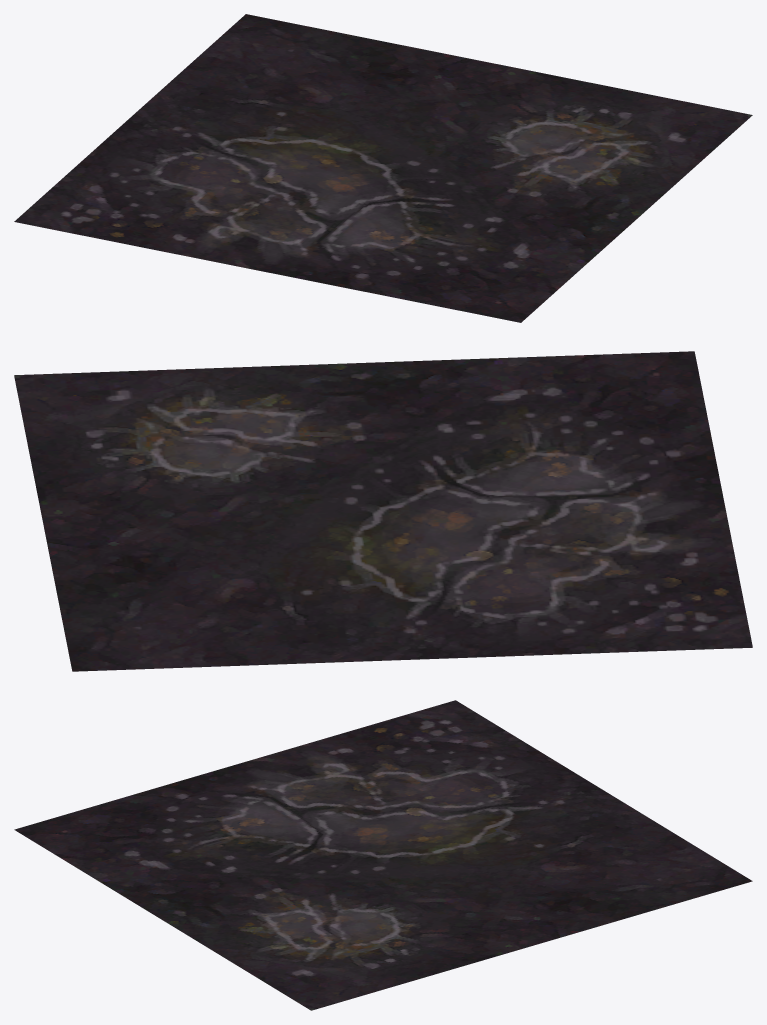
The model's file is cave_floor_mushrooms_24.fbx.
3 renders of one model, top to bottom at view 1: azimuth 30°, elevation 25°; view 2: azimuth 150°, elevation 25°; view 3: azimuth 270°, elevation 25°, orthographic. The views are drawn at different scales.
Visible parts, largest first — view 1: cave_tileset/Floormushrooms_03_mat; view 2: cave_tileset/Floormushrooms_03_mat; view 3: cave_tileset/Floormushrooms_03_mat.
Part boxes in pixels (x1,y1,x2,y2): cave_tileset/Floormushrooms_03_mat: [14, 14, 752, 322]; cave_tileset/Floormushrooms_03_mat: [14, 351, 752, 671]; cave_tileset/Floormushrooms_03_mat: [14, 700, 752, 1010].
Size of the model in its own units: 3.95 by 0 by 3.97.
